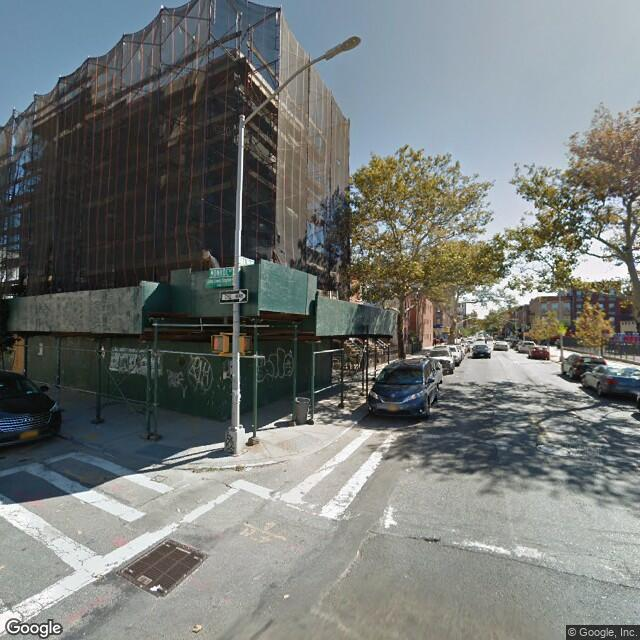litter: (172, 620, 215, 640), (147, 580, 178, 604), (283, 585, 288, 604)
